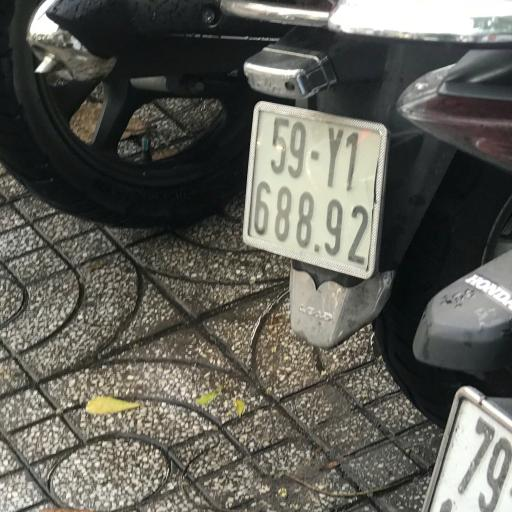1: (344, 126, 362, 200)
2: (348, 204, 375, 270)
5: (271, 116, 290, 178)
6: (251, 180, 272, 240)
8: (293, 191, 317, 250), (274, 183, 293, 245)
9: (322, 198, 343, 263), (286, 120, 307, 182)
Y: (324, 126, 344, 189)
